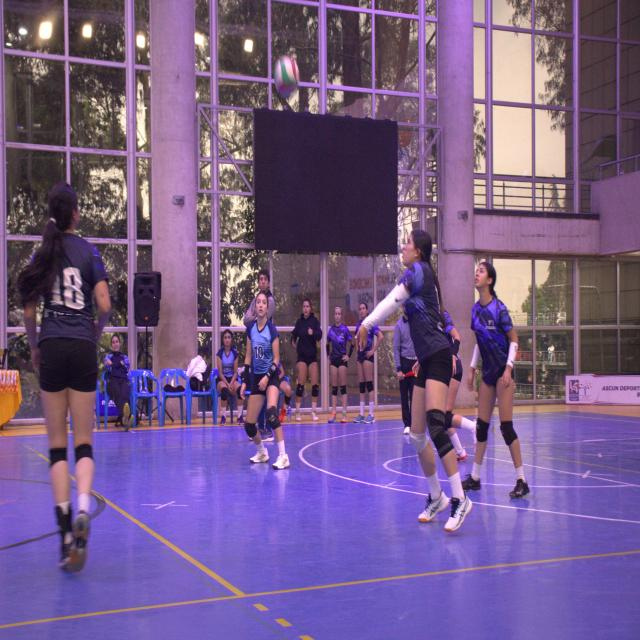volleyball: (274, 52, 299, 97)
